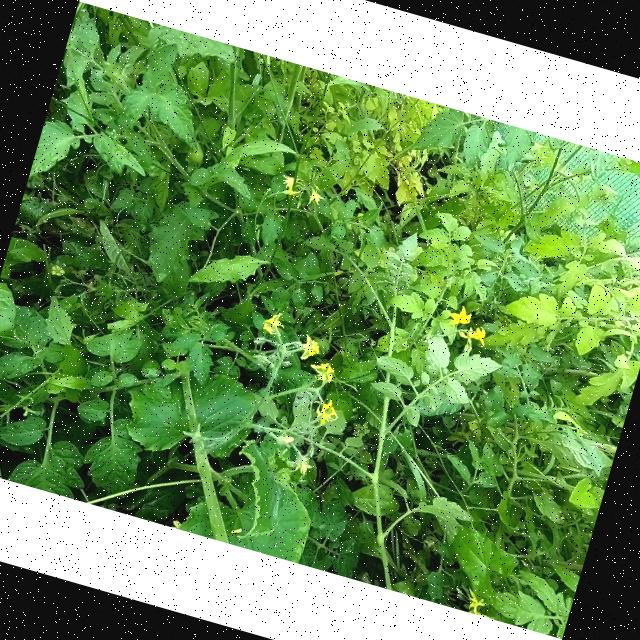Flowers: (294, 331, 324, 365), (312, 396, 342, 428), (306, 356, 338, 385), (286, 451, 316, 480), (461, 588, 492, 616), (276, 173, 307, 200), (455, 323, 488, 348), (445, 302, 476, 328), (260, 310, 287, 338), (304, 186, 326, 210), (276, 433, 296, 450)
